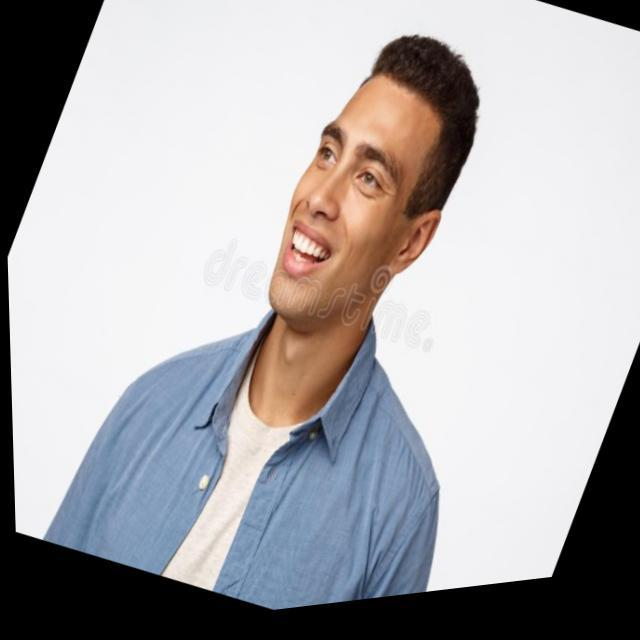Nonhelmet: (263, 32, 482, 334)
